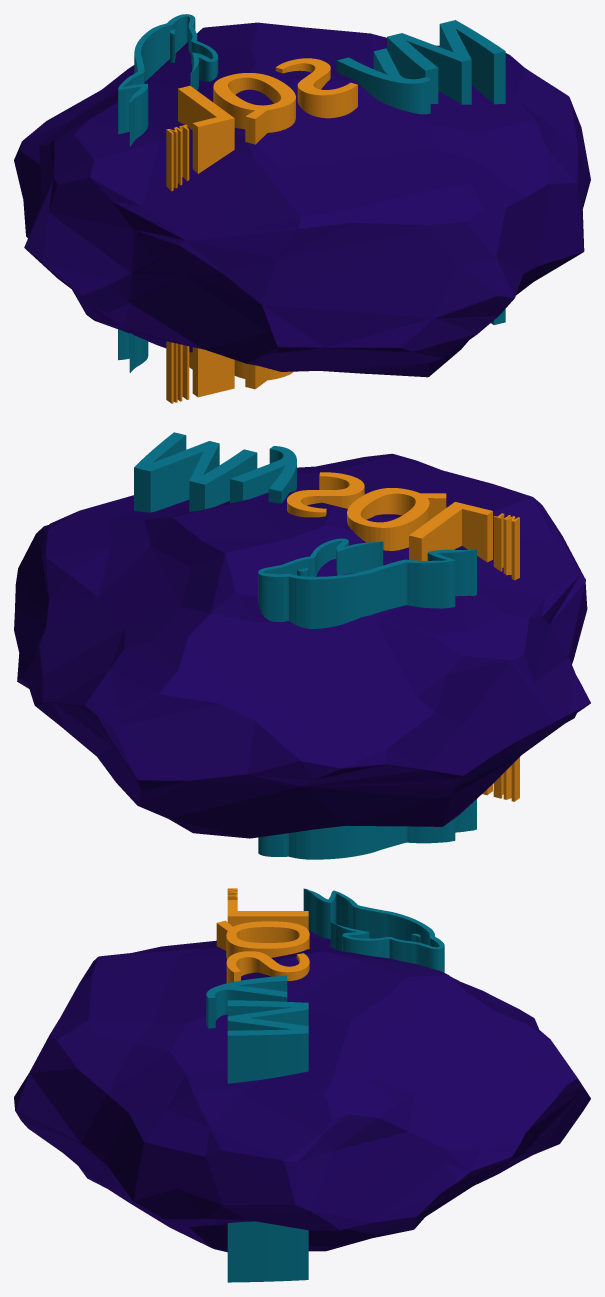
The model's file is mysql.glb.
The picture shows the model from 3 angles, top to bottom: view 1: azimuth 30°, elevation 25°; view 2: azimuth 150°, elevation 25°; view 3: azimuth 270°, elevation 25°; orthographic projection. The views are drawn at different scales.
Parts seen in each view (by area): view 1: Cube.007, Curve.001, Curve, Curve.002; view 2: Cube.007, Curve.002, Curve.001, Curve; view 3: Cube.007, Curve, Curve.002, Curve.001.
Part boxes in pixels (box(x1,y1,x2,y2)): Cube.007: box(14, 22, 590, 377); Curve.001: box(166, 58, 357, 403); Curve: box(336, 20, 505, 324); Curve.002: box(118, 14, 218, 372); Cube.007: box(14, 453, 590, 838); Curve.002: box(258, 538, 476, 859); Curve.001: box(287, 472, 519, 801); Curve: box(134, 432, 296, 512); Cube.007: box(14, 930, 590, 1252); Curve: box(206, 975, 308, 1282); Curve.002: box(303, 888, 444, 972); Curve.001: box(216, 888, 309, 983).
Bounding box in the file's own units: 2 × 0.9622 × 2.04.
